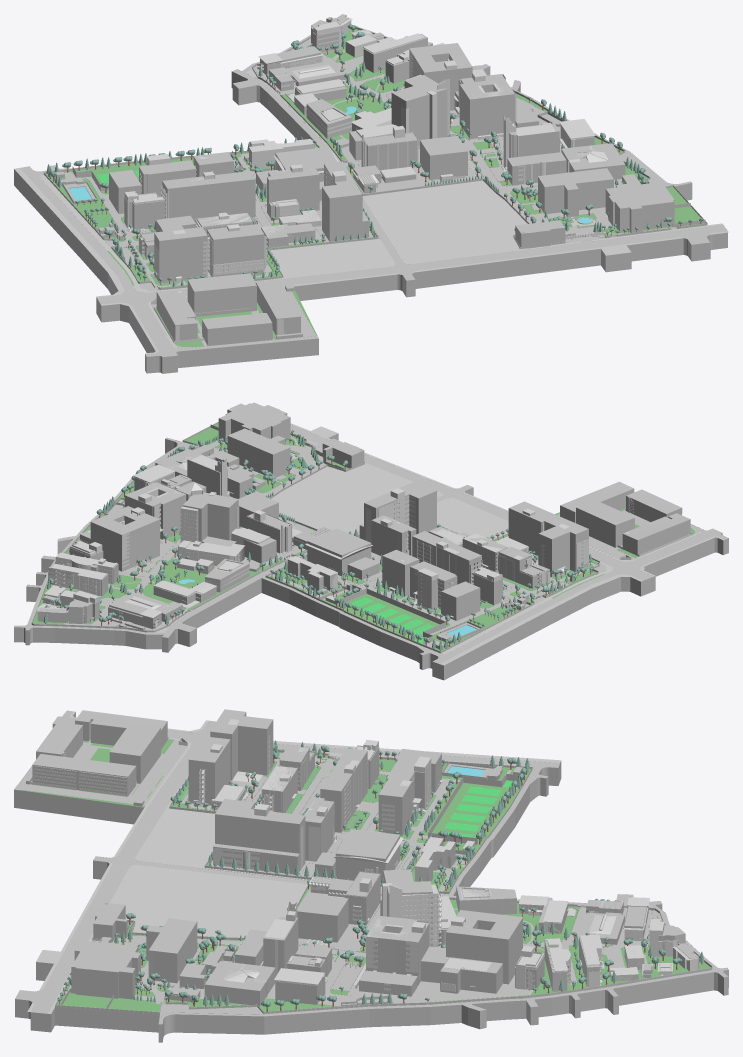
File: uec-all-v2.glb
The picture shows the model from 3 angles, top to bottom: view 1: azimuth 30°, elevation 25°; view 2: azimuth 150°, elevation 25°; view 3: azimuth 270°, elevation 25°; orthographic projection. The views are drawn at different scales.
Parts seen in each view (by area): view 1: Body19, Body29, Body623, Body714, buil_西2号館, buil_東4号館, Body28, buil_東講堂, buil_西9号館, buil_東本館A, buil_西10号館, buil_UECポートアライアンスセンター (+44 smaller); view 2: Body623, Body19, Body29, Body717, buil_東6号館, buil_西体育館, buil_東本館A, buil_西9号館, buil_東講堂, buil_西10号館, buil_東図書館A, Body28 (+53 smaller); view 3: Body623, Body19, Body29, buil_西10号館, buil_東6号館, buil_東4号館, buil_東講堂, Body28, buil_西9号館, buil_東本館A, buil_UECポートドーム絆, buil_西体育館 (+62 smaller).
Boxes of the visible parts, box(x1,y1,x2,y2) form: Body19: box(20, 14, 727, 357); Body29: box(363, 180, 527, 263); Body623: box(49, 15, 727, 373); Body714: box(412, 238, 683, 288); buil_西2号館: box(162, 171, 255, 223); buil_東4号館: box(459, 74, 538, 139); Body28: box(270, 238, 395, 277); buil_東講堂: box(605, 178, 674, 232); buil_西9号館: box(154, 217, 207, 283); buil_東本館A: box(538, 168, 613, 217); buil_西10号館: box(322, 161, 368, 241); buil_UECポートアライアンスセンター: box(187, 273, 256, 316); Body623: box(14, 439, 728, 678); Body19: box(14, 404, 728, 663); Body29: box(271, 464, 441, 533); Body717: box(439, 577, 642, 680); buil_東6号館: box(90, 506, 159, 571); buil_西体育館: box(307, 528, 379, 579); buil_東本館A: box(227, 428, 290, 477); buil_西9号館: box(538, 515, 588, 576); buil_東講堂: box(218, 402, 290, 441); buil_西10号館: box(359, 481, 436, 540); buil_東図書館A: box(182, 492, 238, 542); Body28: box(437, 498, 508, 539); Body623: box(14, 716, 728, 1042); Body19: box(14, 710, 728, 1024); Body29: box(113, 865, 307, 937); buil_西10号館: box(213, 799, 305, 874); buil_東6号館: box(446, 910, 522, 984); buil_東4号館: box(359, 915, 429, 996); buil_東講堂: box(71, 941, 140, 999); Body28: box(137, 808, 214, 868); buil_西9号館: box(210, 709, 273, 780); buil_東本館A: box(146, 918, 197, 983); buil_UECポートドーム絆: box(32, 754, 136, 795); buil_西体育館: box(335, 829, 400, 882).
Size of the model in its own units: 529 by 66.4 by 509.
